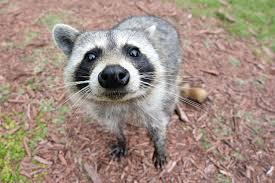raccoon: (39, 3, 199, 182)
